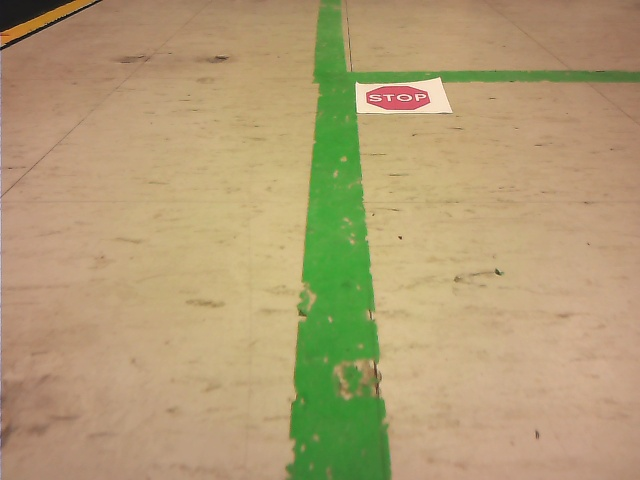STOP: (366, 86, 430, 109)
